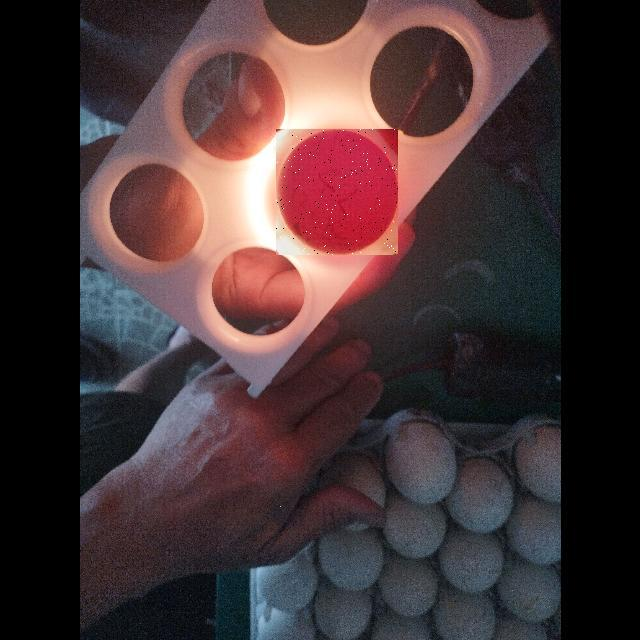Infertile: (276, 129, 398, 255)
